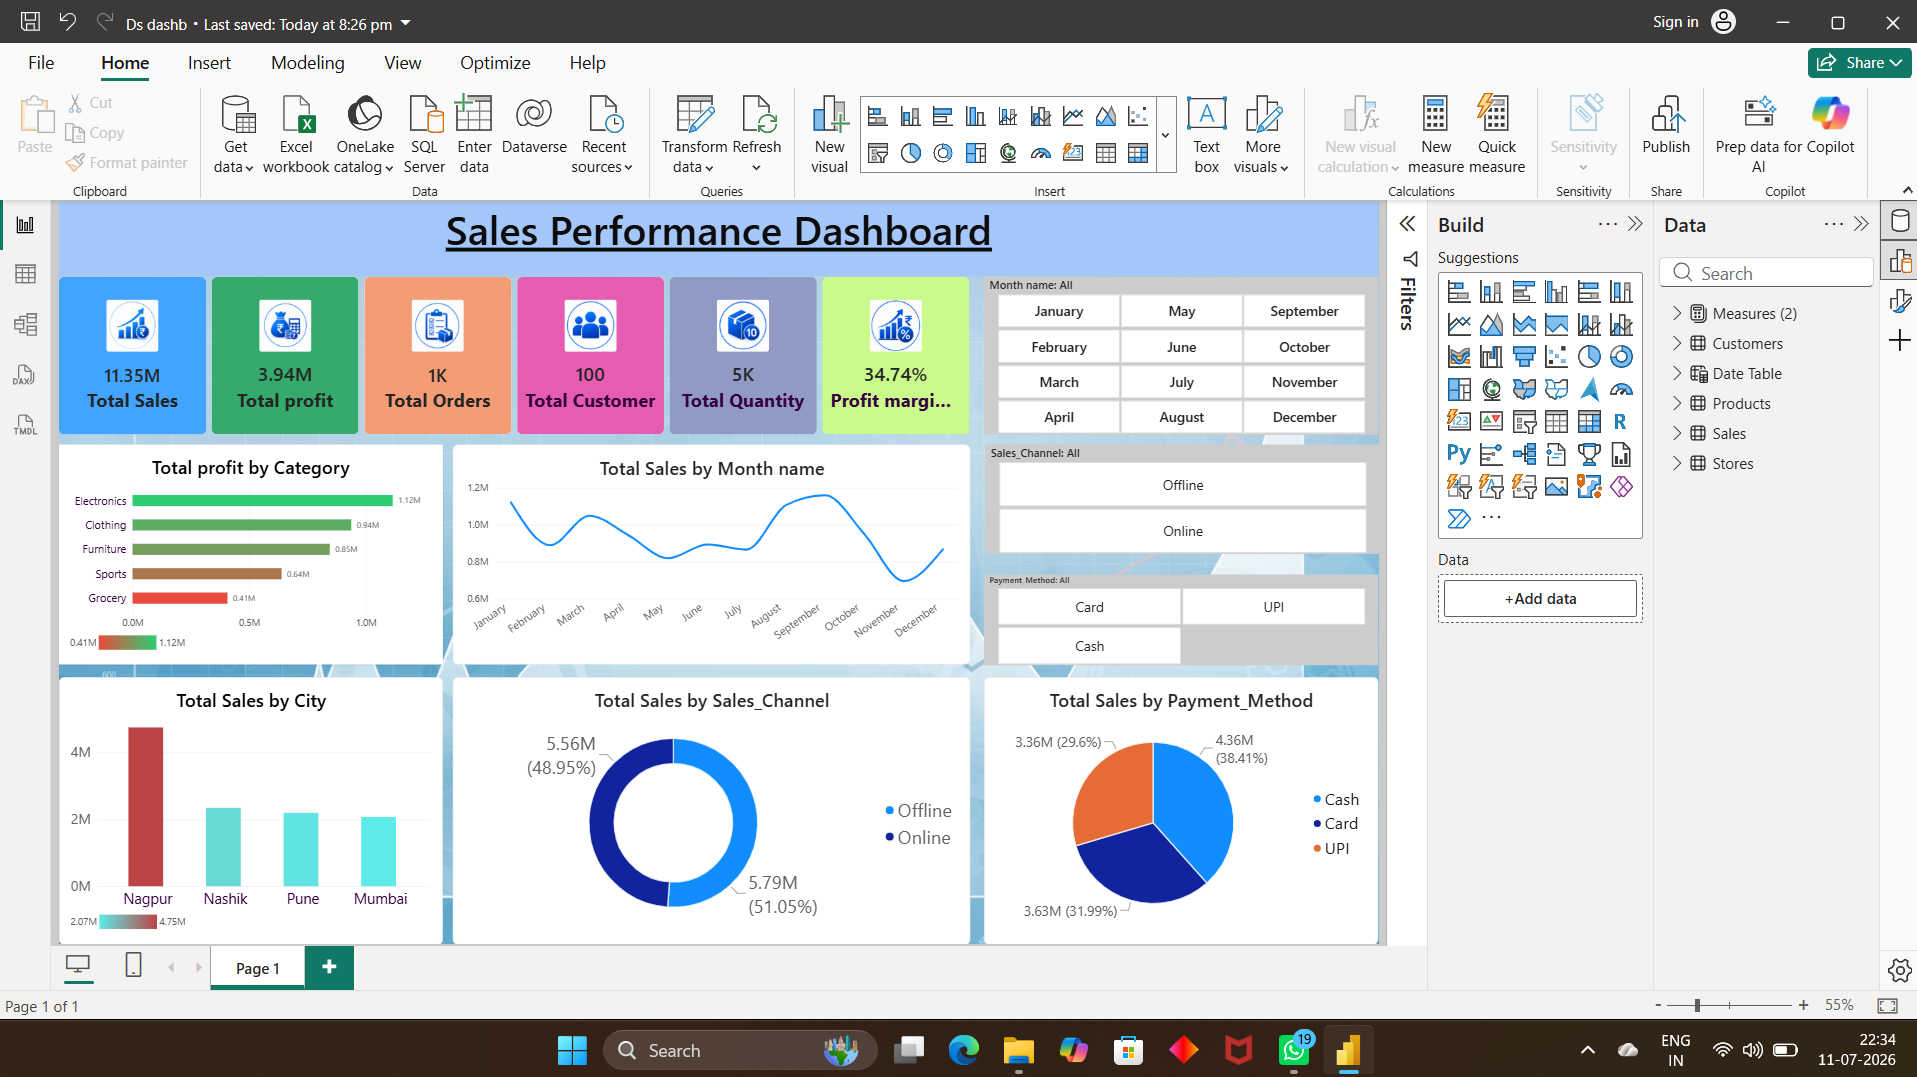

This screenshot's page, from the dashboard's own definition file:
{"tool":"powerbi","page":{"name":"Page 1","canvas":[1920,1080],"ordinal":0},"visuals":[{"type":"textbox","box":[0,0,1919.6,108.2],"z":0},{"type":"cardVisual","fields":{"Data":["Measures (2).Total Sales","Measures (2).Total profit","Measures (2).Total Orders","Measures (2).Total Customer","Measures (2).Total Quantity","Measures (2).Profit margin %"]},"box":[0,108.2,1326.6,229.4],"z":1000},{"type":"barChart","fields":{"Y":["Measures (2).Total profit"],"Category":["Products.Category"]},"box":[0,352.8,558.3,320.3],"z":2000},{"type":"columnChart","fields":{"Y":["Measures (2).Total Sales"],"Category":["Stores.City"]},"box":[0,690.4,558.3,389.5],"z":3000},{"type":"lineChart","fields":{"Category":["Date Table.Month name"],"Y":["Measures (2).Total Sales"]},"box":[573.5,352.8,753.1,320.3],"z":4000},{"type":"donutChart","fields":{"Category":["Sales.Sales_Channel"],"Y":["Measures (2).Total Sales"]},"box":[573.5,690.4,753.1,389.5],"z":5000},{"type":"pieChart","fields":{"Category":["Sales.Payment_Method"],"Y":["Measures (2).Total Sales"]},"box":[1346.1,690.4,573.5,389.5],"z":6000},{"type":"slicer","fields":{"Values":["Date Table.Month name"]},"box":[1346.1,108.2,573.5,229.4],"z":7000},{"type":"slicer","fields":{"Values":["Sales.Sales_Channel"]},"box":[1346.4,352.9,573.7,159.3],"z":8000},{"type":"slicer","fields":{"Values":["Sales.Payment_Method"]},"box":[1346.1,541,573.5,132],"z":9000}]}

Visuals, with their boxes on the page's 1920x1080 design canvas (x1, y1, x2, y2). These are canvas units, not pixel positions in the 1917x1077 screenshot, which may show the page scaled, cropped or inside an application window:
textbox: x1=0 y1=0 x2=1920 y2=108
cardVisual - Measures (2).Total Sales x Measures (2).Total profit: x1=0 y1=108 x2=1327 y2=338
barChart - Measures (2).Total profit x Products.Category: x1=0 y1=353 x2=558 y2=673
columnChart - Measures (2).Total Sales x Stores.City: x1=0 y1=690 x2=558 y2=1080
lineChart - Date Table.Month name x Measures (2).Total Sales: x1=574 y1=353 x2=1327 y2=673
donutChart - Sales.Sales_Channel x Measures (2).Total Sales: x1=574 y1=690 x2=1327 y2=1080
pieChart - Sales.Payment_Method x Measures (2).Total Sales: x1=1346 y1=690 x2=1920 y2=1080
slicer - Date Table.Month name: x1=1346 y1=108 x2=1920 y2=338
slicer - Sales.Sales_Channel: x1=1346 y1=353 x2=1920 y2=512
slicer - Sales.Payment_Method: x1=1346 y1=541 x2=1920 y2=673
